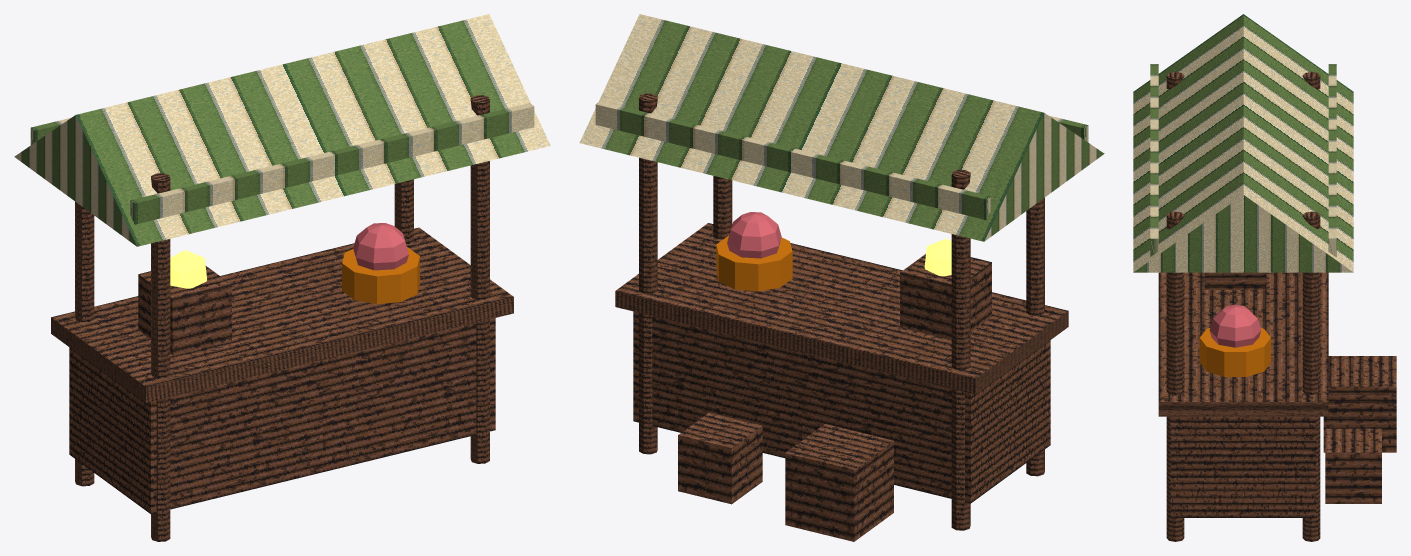
File: puesto_tawi.glb
3 views of the same model, side by side, from view 1: azimuth 30°, elevation 25°; view 2: azimuth 150°, elevation 25°; view 3: azimuth 270°, elevation 25° (orthographic). The views are drawn at different scales.
Parts seen in each view (by area): view 1: Puesto_Toldo, Cube, Cube.001, Cube.002, Cylinder, Cylinder.002, Cube.004, Cylinder.004, Cylinder.001, Sphere, Icosphere, Cylinder.003; view 2: Puesto_Toldo, Cube, Cube.001, Cube.005, Cube.003, Cube.006, Cylinder.001, Cylinder.003, Cube.004, Cylinder.004, Cylinder, Sphere (+2 smaller); view 3: Puesto_Toldo, Cube.001, Cube, Cube.005, Cube.006, Cylinder.002, Cylinder.003, Cylinder.004, Sphere, Cube.002, Cube.003, Cube.004.
Boxes of the visible parts, left/top/right/bottom form: Puesto_Toldo: left=14, top=14, right=550, bottom=246; Cube: left=69, top=318, right=495, bottom=513; Cube.001: left=51, top=227, right=513, bottom=402; Cube.002: left=130, top=103, right=534, bottom=224; Cylinder: left=151, top=173, right=170, bottom=541; Cylinder.002: left=470, top=95, right=489, bottom=463; Cube.004: left=138, top=266, right=231, bottom=354; Cylinder.004: left=342, top=247, right=419, bottom=304; Cylinder.001: left=75, top=201, right=94, bottom=486; Sphere: left=353, top=223, right=408, bottom=270; Icosphere: left=170, top=250, right=206, bottom=288; Cylinder.003: left=394, top=179, right=413, bottom=243; Puesto_Toldo: left=579, top=14, right=1104, bottom=241; Cube: left=633, top=311, right=1050, bottom=503; Cube.001: left=615, top=223, right=1068, bottom=394; Cube.005: left=785, top=424, right=893, bottom=541; Cube.003: left=595, top=101, right=990, bottom=220; Cube.006: left=678, top=412, right=762, bottom=504; Cylinder.001: left=951, top=169, right=970, bottom=530; Cylinder.003: left=639, top=93, right=657, bottom=454; Cube.004: left=900, top=254, right=991, bottom=339; Cylinder.004: left=716, top=235, right=792, bottom=291; Cylinder: left=1026, top=197, right=1044, bottom=476; Sphere: left=727, top=212, right=781, bottom=258; Puesto_Toldo: left=1133, top=14, right=1353, bottom=272; Cube.001: left=1158, top=272, right=1328, bottom=416; Cube: left=1170, top=416, right=1316, bottom=517; Cube.005: left=1323, top=356, right=1396, bottom=452; Cube.006: left=1325, top=428, right=1381, bottom=503; Cylinder.002: left=1166, top=211, right=1184, bottom=541; Cylinder.003: left=1302, top=211, right=1320, bottom=541; Cylinder.004: left=1199, top=328, right=1270, bottom=376; Sphere: left=1209, top=304, right=1261, bottom=347; Cube.002: left=1150, top=64, right=1158, bottom=256; Cube.003: left=1328, top=64, right=1336, bottom=256; Cube.004: left=1204, top=272, right=1266, bottom=289.
Bounding box in the file's own units: 2.64 × 2.48 × 1.63.
5 materials, 2 textured.
